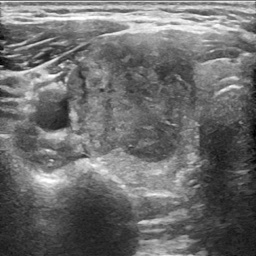mass: (73, 49, 194, 162)
